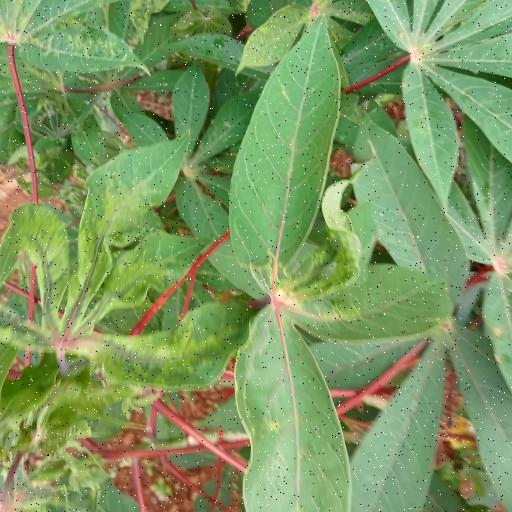Cassava_Healthy: (232, 15, 442, 512)
